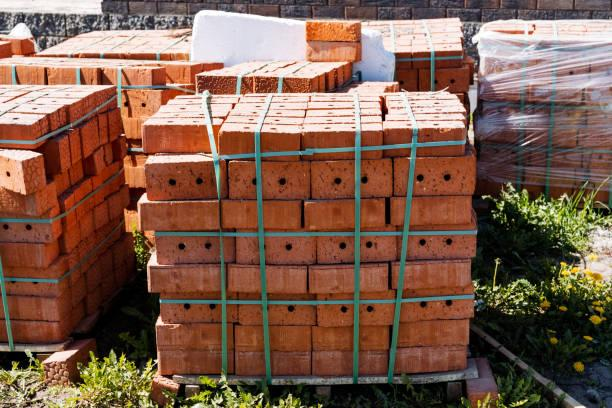Bricks: (0, 305, 87, 345), (394, 158, 481, 193), (147, 157, 223, 197), (226, 163, 310, 199), (234, 231, 315, 267), (308, 162, 392, 195), (0, 257, 69, 297), (302, 122, 382, 155), (230, 292, 315, 323), (41, 339, 97, 384), (0, 203, 64, 242), (145, 119, 218, 152), (306, 198, 388, 227), (391, 193, 473, 222), (0, 289, 72, 322), (322, 229, 398, 260), (309, 263, 390, 291), (141, 200, 219, 229), (223, 199, 303, 227), (161, 231, 235, 261), (318, 295, 396, 322), (0, 151, 45, 197), (0, 182, 57, 217), (314, 323, 392, 348), (399, 231, 471, 258), (386, 123, 463, 148), (225, 125, 299, 151), (321, 350, 389, 378), (155, 350, 231, 375), (230, 264, 309, 288), (0, 238, 60, 269), (155, 325, 235, 348), (160, 298, 235, 322), (402, 289, 473, 314), (236, 325, 312, 348), (396, 263, 470, 286), (391, 347, 468, 369), (146, 272, 222, 293), (396, 321, 471, 342), (11, 102, 62, 131), (235, 355, 310, 374), (32, 98, 83, 122), (103, 67, 164, 86), (61, 89, 107, 114), (46, 92, 96, 114), (308, 41, 356, 63), (258, 72, 316, 90), (118, 88, 158, 114), (200, 72, 255, 90), (48, 65, 99, 84), (307, 23, 360, 41), (0, 62, 43, 84), (225, 113, 303, 125), (415, 46, 464, 65), (74, 179, 95, 220), (420, 69, 465, 88), (49, 136, 71, 173), (383, 114, 467, 123), (304, 100, 379, 110), (303, 114, 381, 123), (231, 101, 309, 110), (387, 98, 464, 107), (158, 104, 233, 113), (389, 105, 466, 113), (70, 277, 87, 310), (44, 104, 69, 126), (66, 250, 82, 284), (106, 107, 121, 143), (68, 129, 82, 167), (165, 97, 241, 104), (88, 147, 105, 176), (106, 191, 123, 220), (80, 123, 94, 158), (395, 68, 418, 89), (151, 111, 229, 117), (93, 202, 109, 231), (55, 170, 70, 199), (81, 212, 95, 240), (69, 162, 86, 185), (89, 115, 100, 150), (98, 112, 110, 144), (395, 46, 416, 64), (62, 198, 75, 225), (117, 134, 129, 159), (104, 143, 117, 165), (65, 228, 79, 247)
